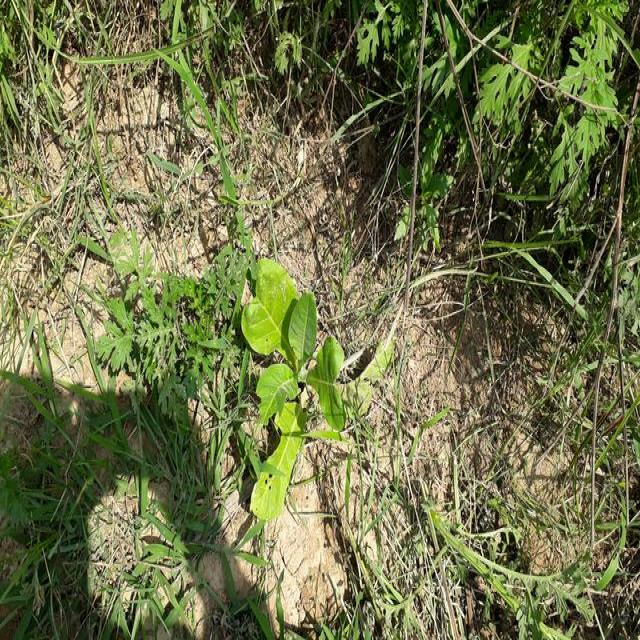crop: (248, 255, 348, 523)
